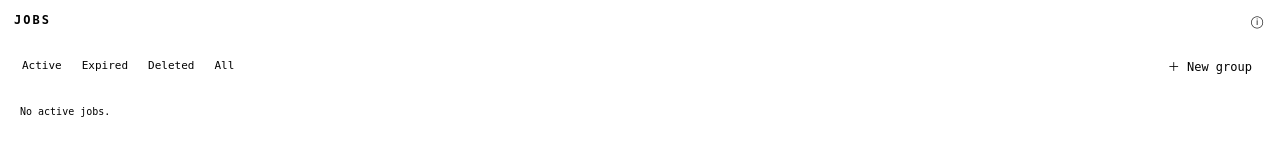
Test: the rows › shows a finished job past its expiry as expired, with the reason as the tooltip of the dimmed symbol
Click the button "Expired" at (105, 66), box x1=74 y1=56 x2=136 y2=75
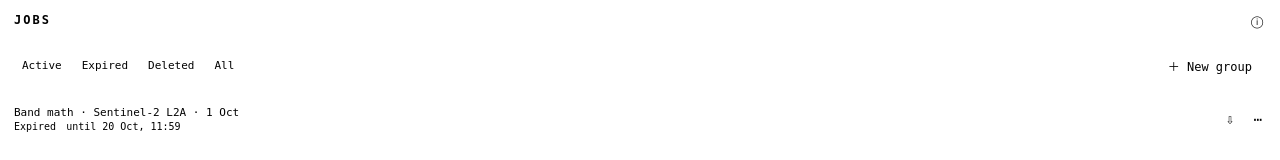
Expected: the text "Expired" is shown, x1=14 y1=121 x2=56 y2=132
Expected: the button "⇩" is enabled, x1=1218 y1=107 x2=1242 y2=131
Expected: the text "until 20 Oct, 11:59" is shown, x1=66 y1=121 x2=181 y2=132
